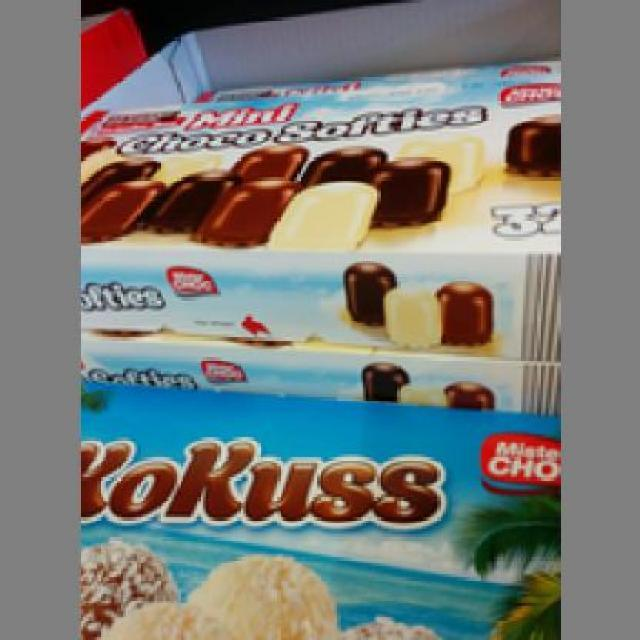Chocolate: (77, 89, 557, 357), (77, 377, 557, 637)
